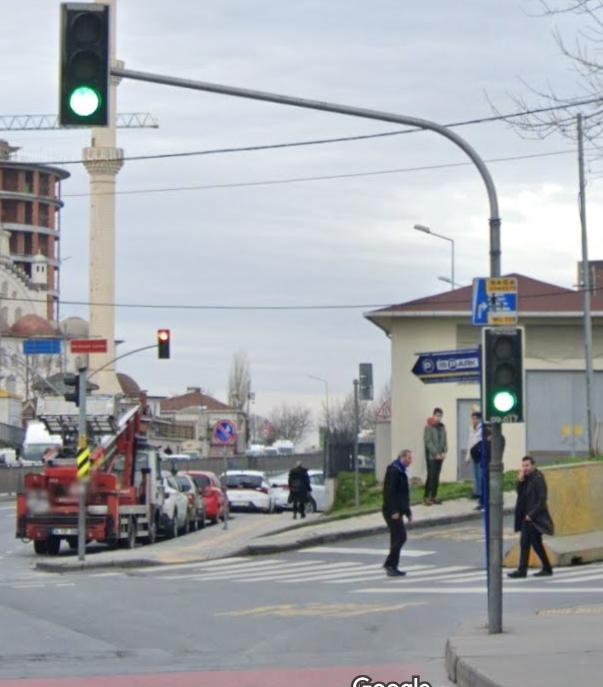greenlight: (58, 0, 110, 128), (485, 328, 523, 422)
redlight: (157, 328, 170, 359)
